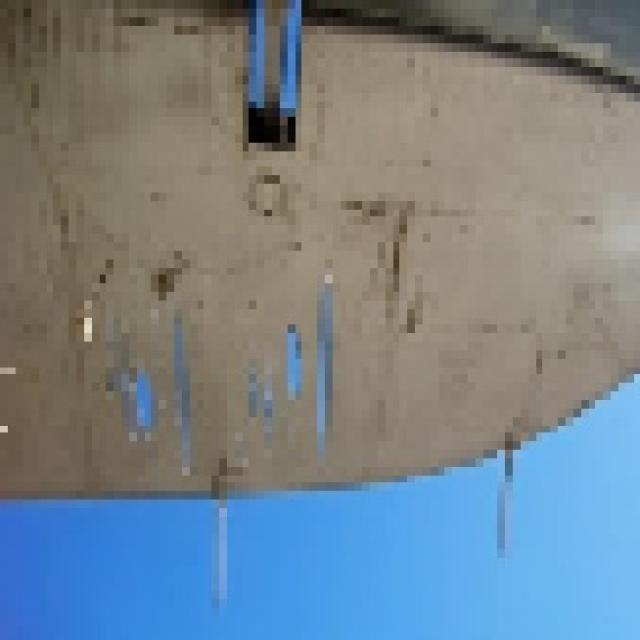crack: (97, 261, 336, 484)
